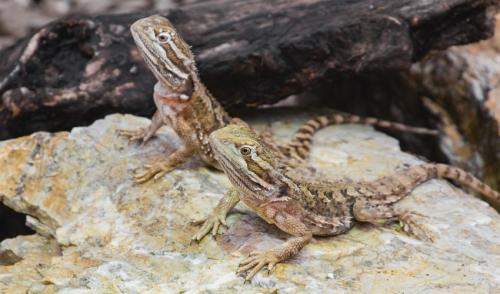bearded: (204, 121, 500, 281)
